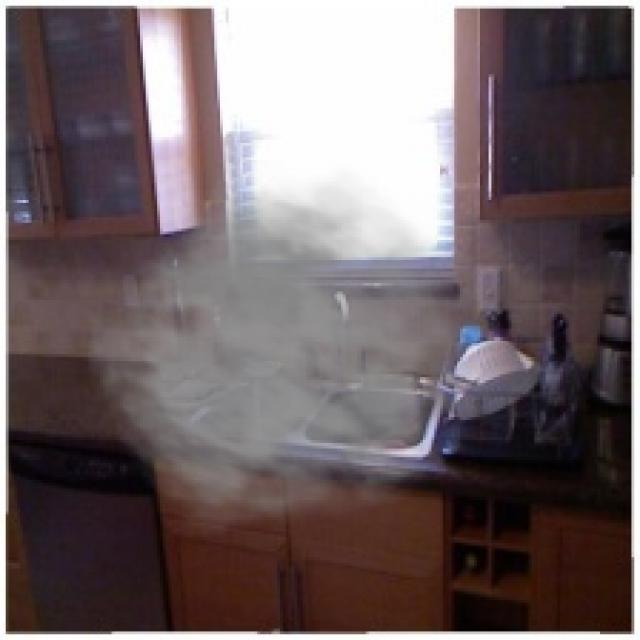smoke: (86, 160, 508, 534)
